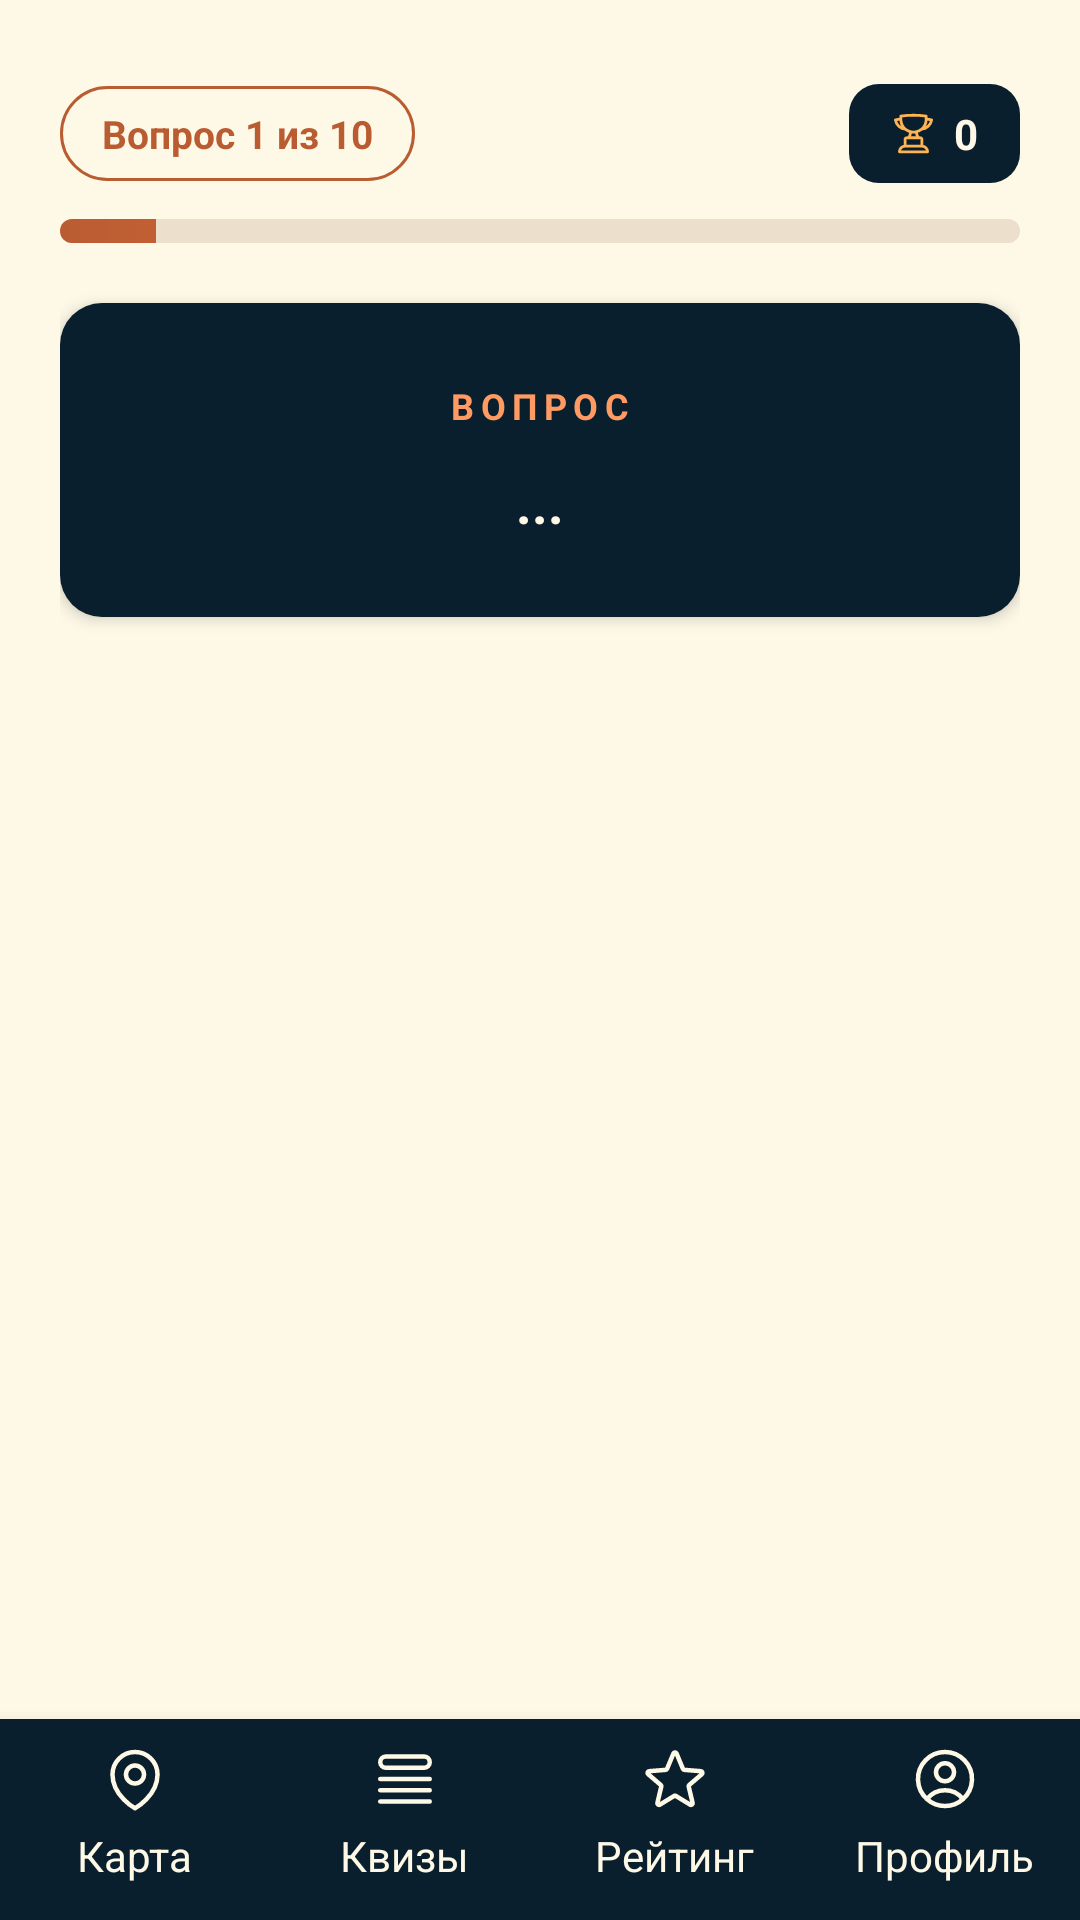

Screen size 1080 × 1920. Icon name, then its center in pixels as (x=x, y=y):
trophy: (x=913, y=133)
